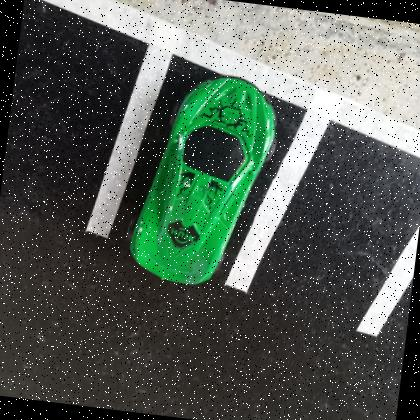Car: (129, 74, 276, 284)
